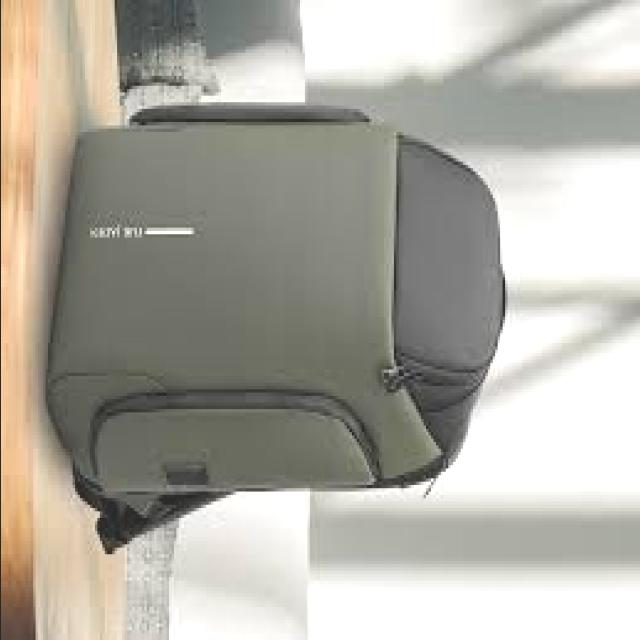backpack: (46, 100, 510, 556)
